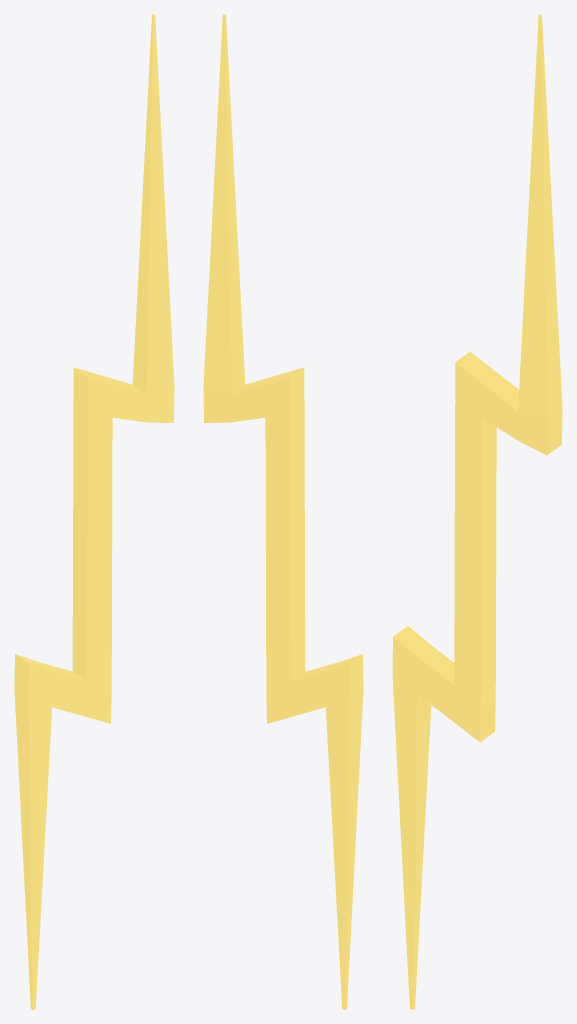
File: Lightning.glb
3 views of the same model, side by side, from view 1: azimuth 30°, elevation 25°; view 2: azimuth 150°, elevation 25°; view 3: azimuth 330°, elevation 25° (orthographic). The views are drawn at different scales.
Parts seen in each view (by area): view 1: Lightning; view 2: Lightning; view 3: Lightning.
Boxes of the visible parts, <box> form: Lightning: <box>14,14,174,1009</box>; Lightning: <box>203,14,363,1009</box>; Lightning: <box>392,14,562,1009</box>.
Bounding box in the file's own units: 0.3952 × 2.5 × 0.0659.
